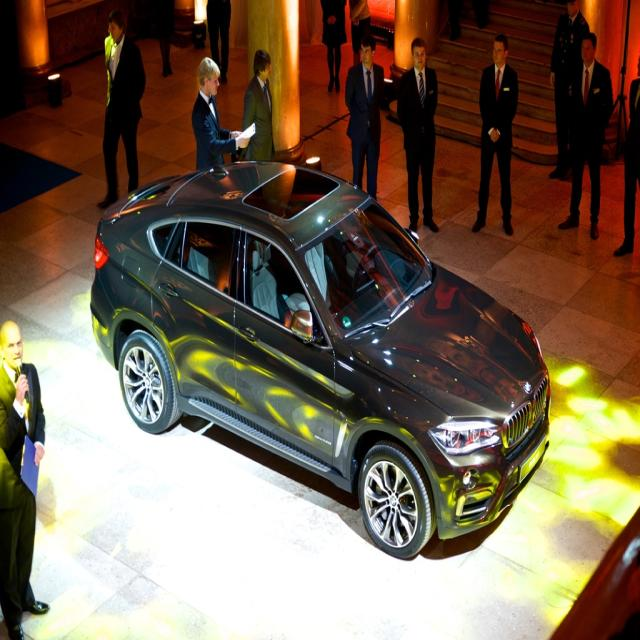car: (87, 156, 551, 561)
